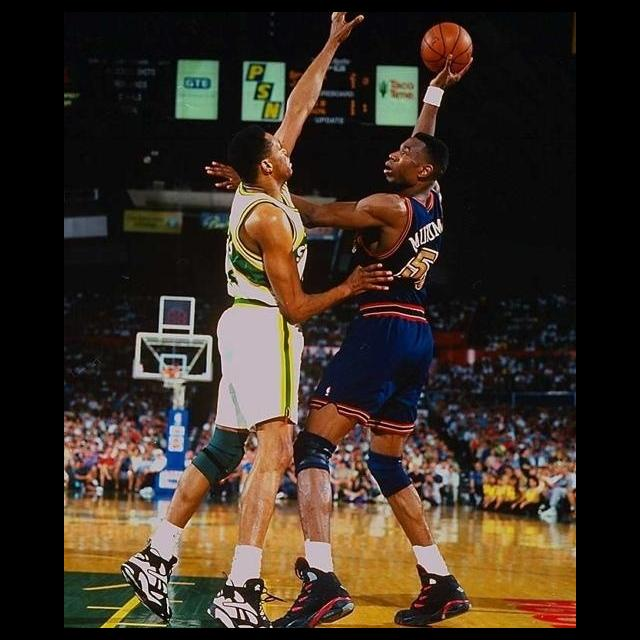basketball: (420, 21, 474, 80)
